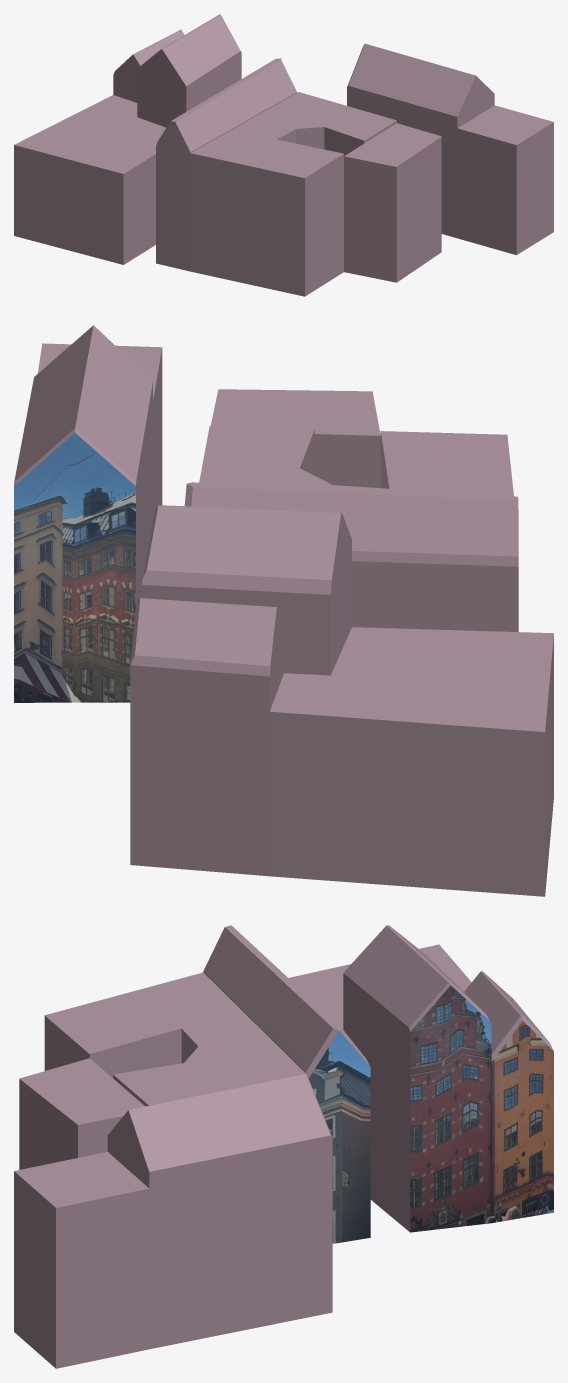
The model's file is Stockholm.glb.
The picture shows the model from 3 angles, top to bottom: view 1: azimuth 30°, elevation 25°; view 2: azimuth 150°, elevation 25°; view 3: azimuth 270°, elevation 25°; orthographic projection. The views are drawn at different scales.
Parts seen in each view (by area): view 1: map_4.osm_buildings; view 2: map_4.osm_buildings; view 3: map_4.osm_buildings.
Boxes of the visible parts, x1=… form: map_4.osm_buildings: x1=14, y1=14, x2=553, y2=296; map_4.osm_buildings: x1=14, y1=325, x2=553, y2=896; map_4.osm_buildings: x1=14, y1=925, x2=553, y2=1368.
Bounding box in the file's own units: 60.51 × 23.69 × 47.37.
2 materials, 2 textured.
